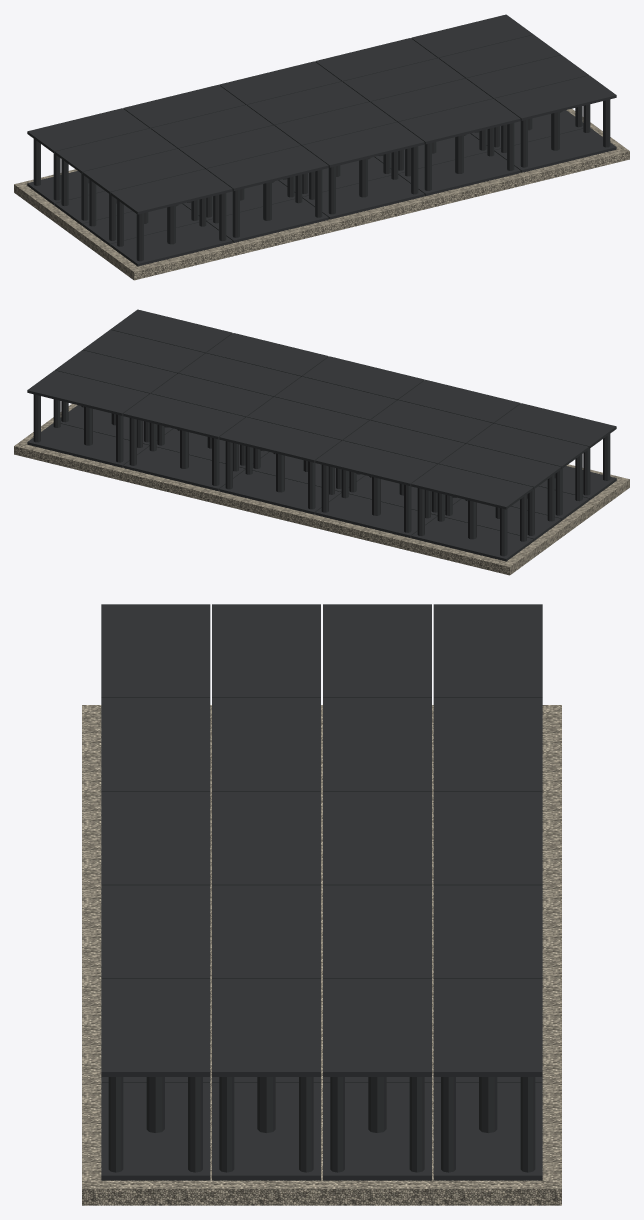
The picture shows the model from 3 angles, top to bottom: view 1: azimuth 30°, elevation 25°; view 2: azimuth 150°, elevation 25°; view 3: azimuth 270°, elevation 25°; orthographic projection. The views are drawn at different scales.
Visible parts, largest first — view 1: blok-1.2-0.6-0.66-plastic_dark (×20), accessShaft=false;coverDepth=0.6;height=0.66;installation=un; view 2: blok-1.2-0.6-0.66-plastic_dark (×20), accessShaft=false;coverDepth=0.6;height=0.66;installation=un; view 3: blok-1.2-0.6-0.66-plastic_dark (×20), accessShaft=false;coverDepth=0.6;height=0.66;installation=un.
Boxes of the visible parts, <box> form: blok-1.2-0.6-0.66-plastic_dark (×20): <box>27,14,616,266</box>; accessShaft=false;coverDepth=0.6;height=0.66;installation=un: <box>14,108,629,280</box>; blok-1.2-0.6-0.66-plastic_dark (×20): <box>27,309,616,561</box>; accessShaft=false;coverDepth=0.6;height=0.66;installation=un: <box>14,403,629,575</box>; blok-1.2-0.6-0.66-plastic_dark (×20): <box>101,604,542,1180</box>; accessShaft=false;coverDepth=0.6;height=0.66;installation=un: <box>82,705,561,1205</box>.
Bounding box in the file's own units: 6.2 × 2.6 × 0.75.
Materials: 2 (1 with a texture image).
